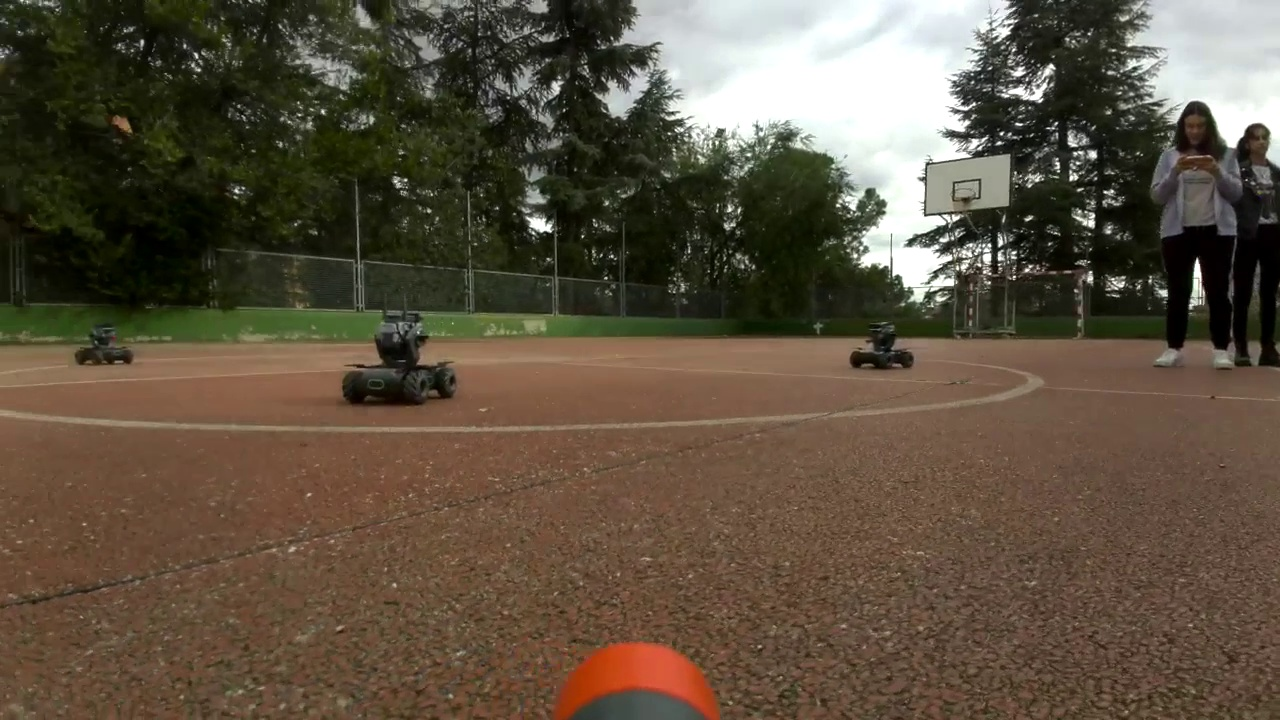robot: (343, 312, 455, 409), (849, 322, 913, 370), (78, 322, 131, 364)
